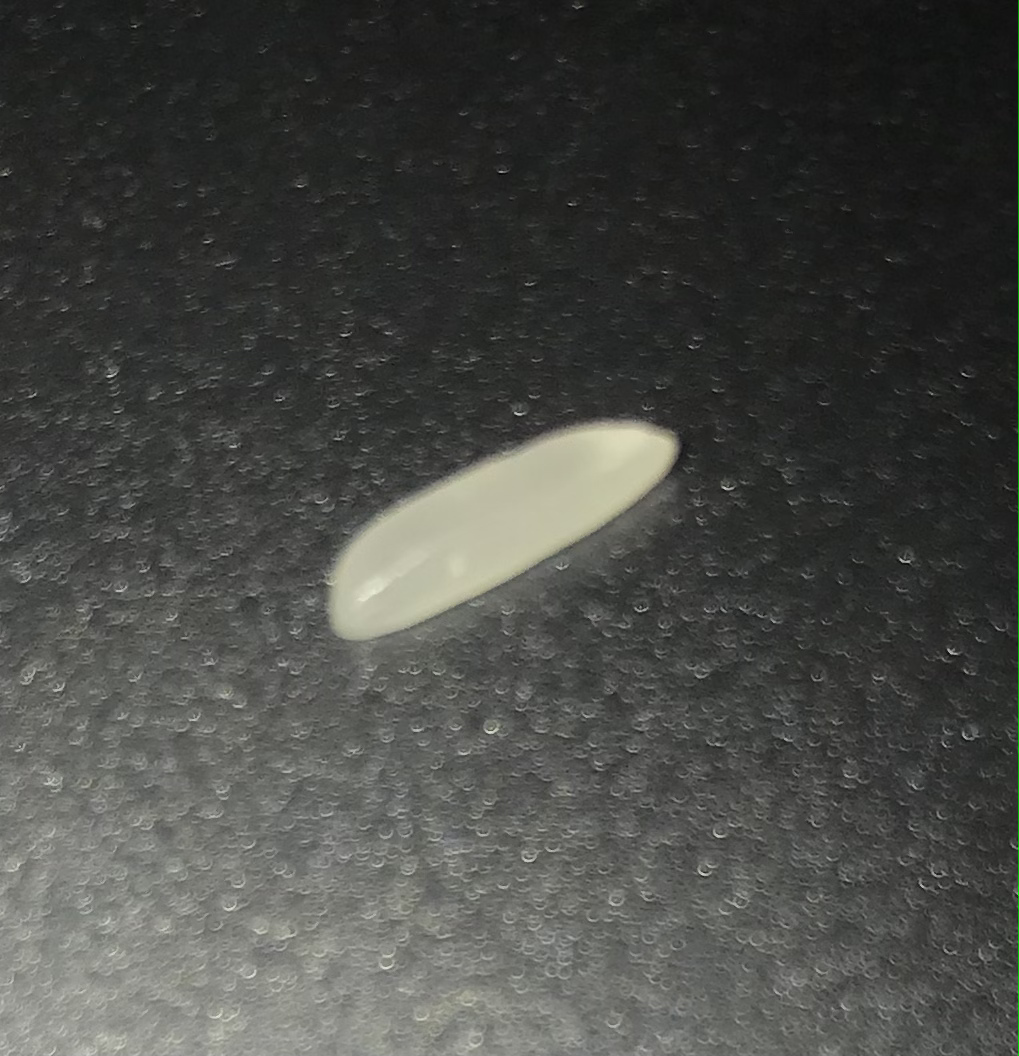Gao Thom My: (327, 380, 682, 658)
